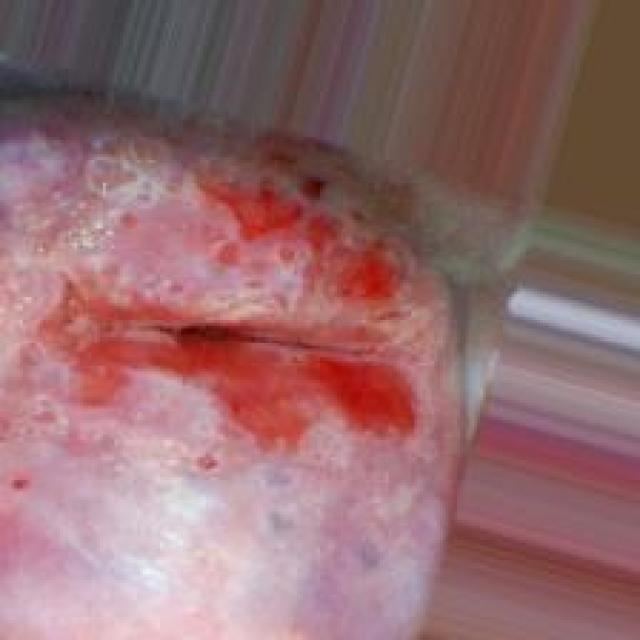type-1: (0, 77, 468, 640)
